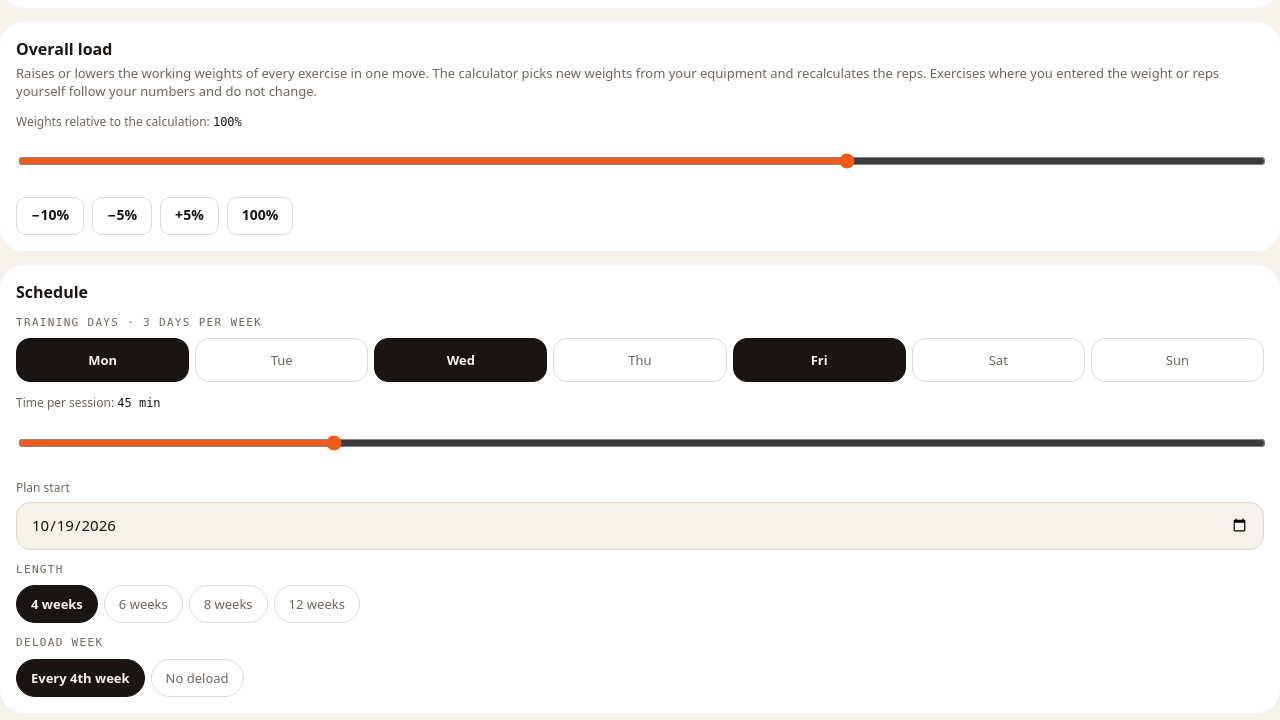
SettingsScreen: schedule › toggles training days
(page scrolled)
Check: the text "Training days · 3 days per week" is shown, box [16,315,262,330]
Check: the checkbox labelled "Mon" is checked, box [16,338,189,382]
Click the checkbox labelled "Tue" at (282,360), box [195,338,368,382]
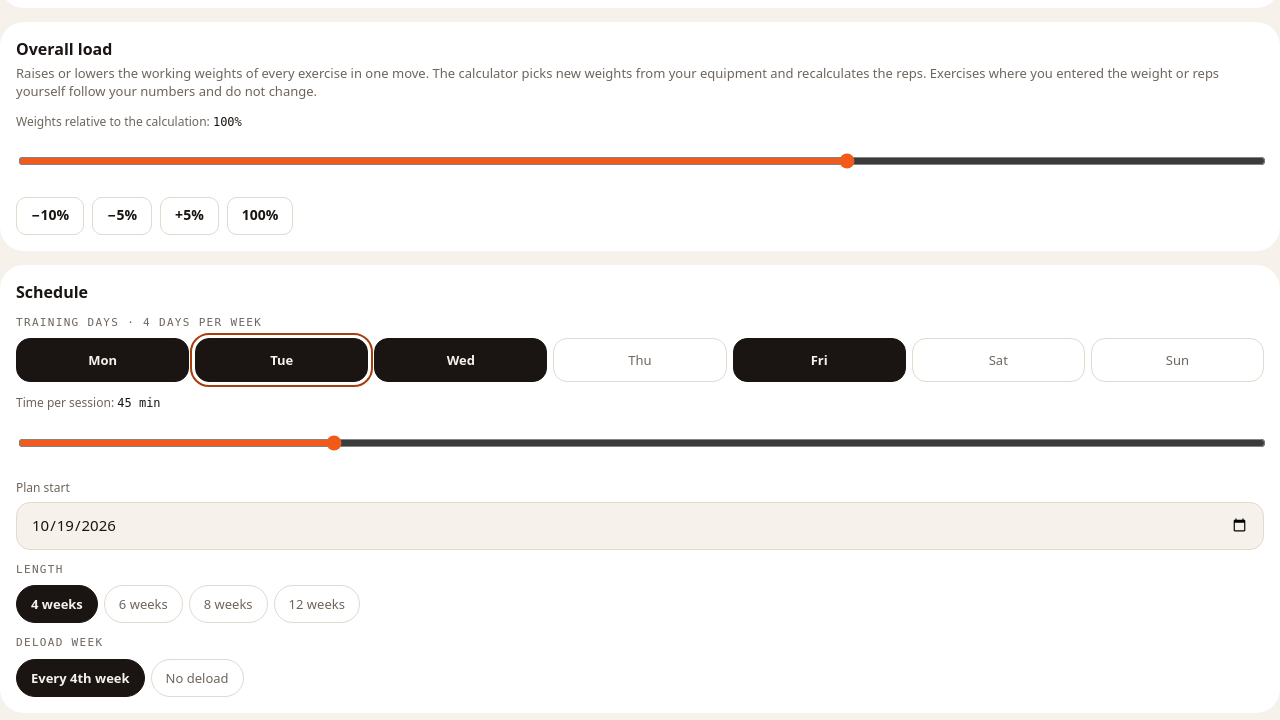
Click the checkbox labelled "Fri" at (819,360), box [733,338,906,382]
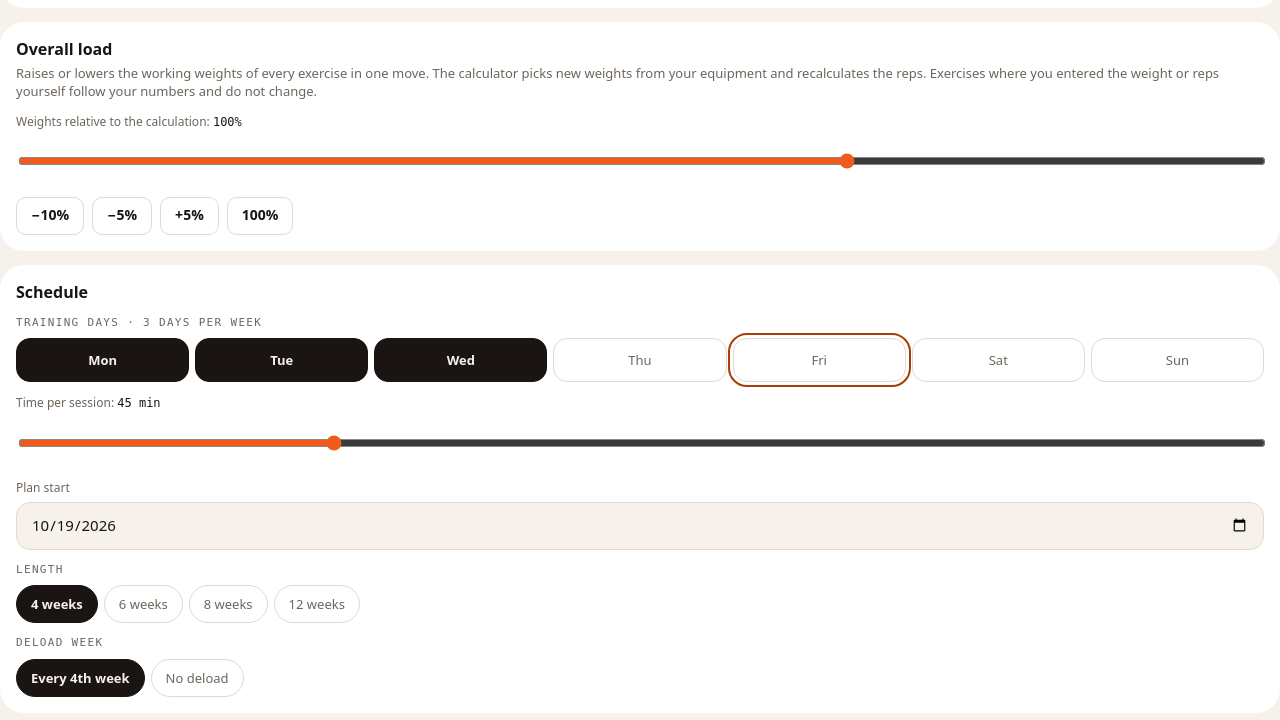
Check: the text "Training days · 3 days per week" is shown, box [16,315,262,330]
